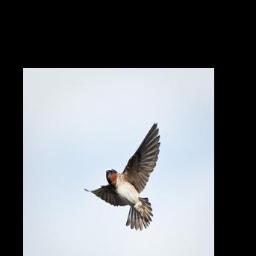Swallow: (84, 120, 162, 233)
